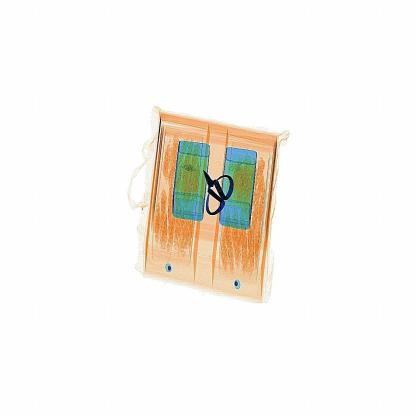gun: (193, 156, 239, 230)
